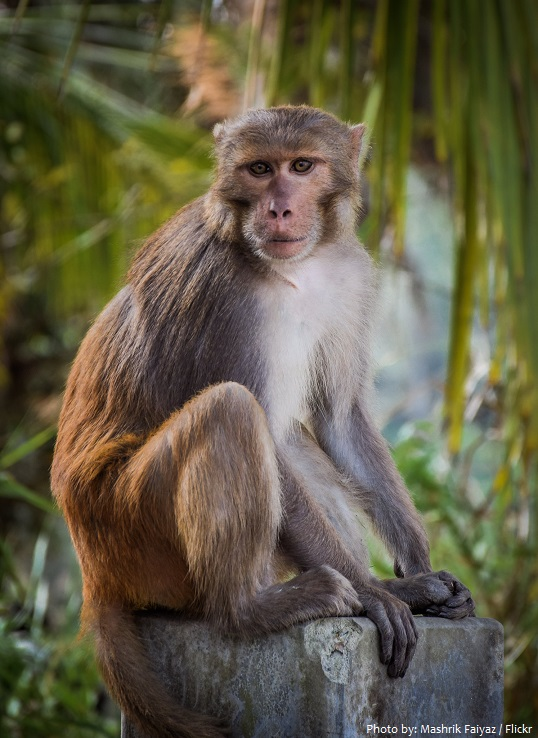monkey: (45, 102, 496, 684)
